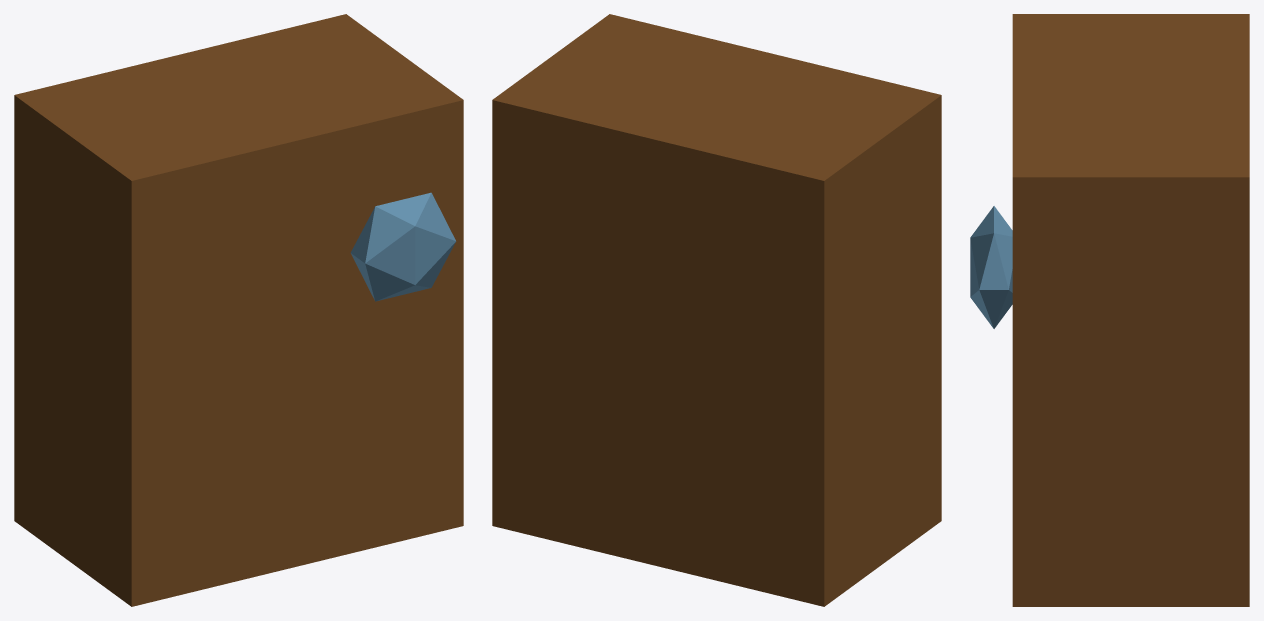
File: body.glb
3 renders of one model, left to right at view 1: azimuth 30°, elevation 25°; view 2: azimuth 150°, elevation 25°; view 3: azimuth 270°, elevation 25°, orthographic.
Parts seen in each view (by area): view 1: chest, chest_emblem; view 2: chest; view 3: chest, chest_emblem.
Part boxes in pixels (left/top/right/bottom): chest: left=14, top=14, right=463, bottom=606; chest_emblem: left=350, top=192, right=456, bottom=301; chest: left=492, top=14, right=941, bottom=606; chest: left=1012, top=14, right=1249, bottom=606; chest_emblem: left=970, top=206, right=1012, bottom=328.
Size of the model in its own units: 0.62 by 0.76 by 0.4483.
